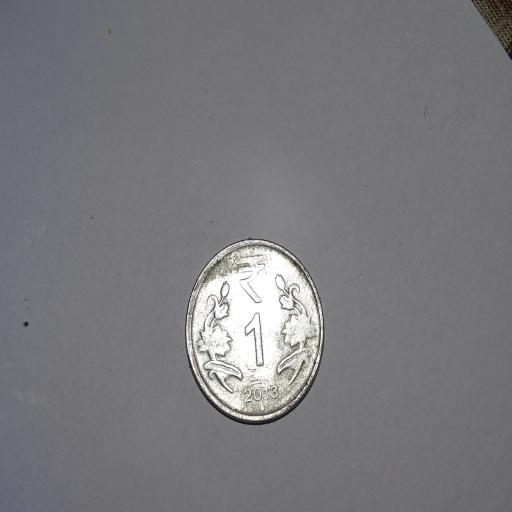rupee1: (184, 242, 326, 425)
